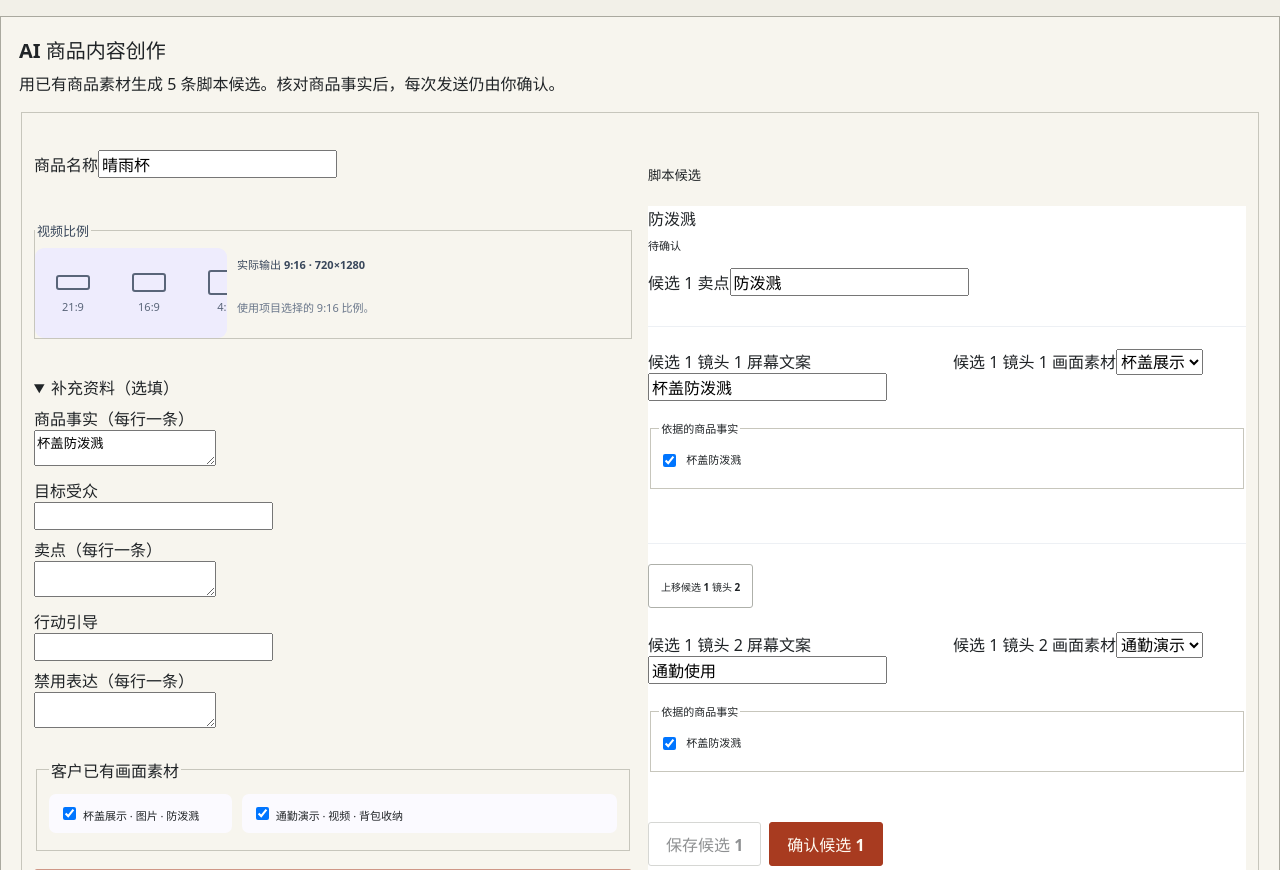
Test: 修改脚本候选后必须保存新版本再确认
Replace the text in the field labelled "候选 1 卖点" with "轻松通勤": (849, 282) [730, 268, 968, 296]
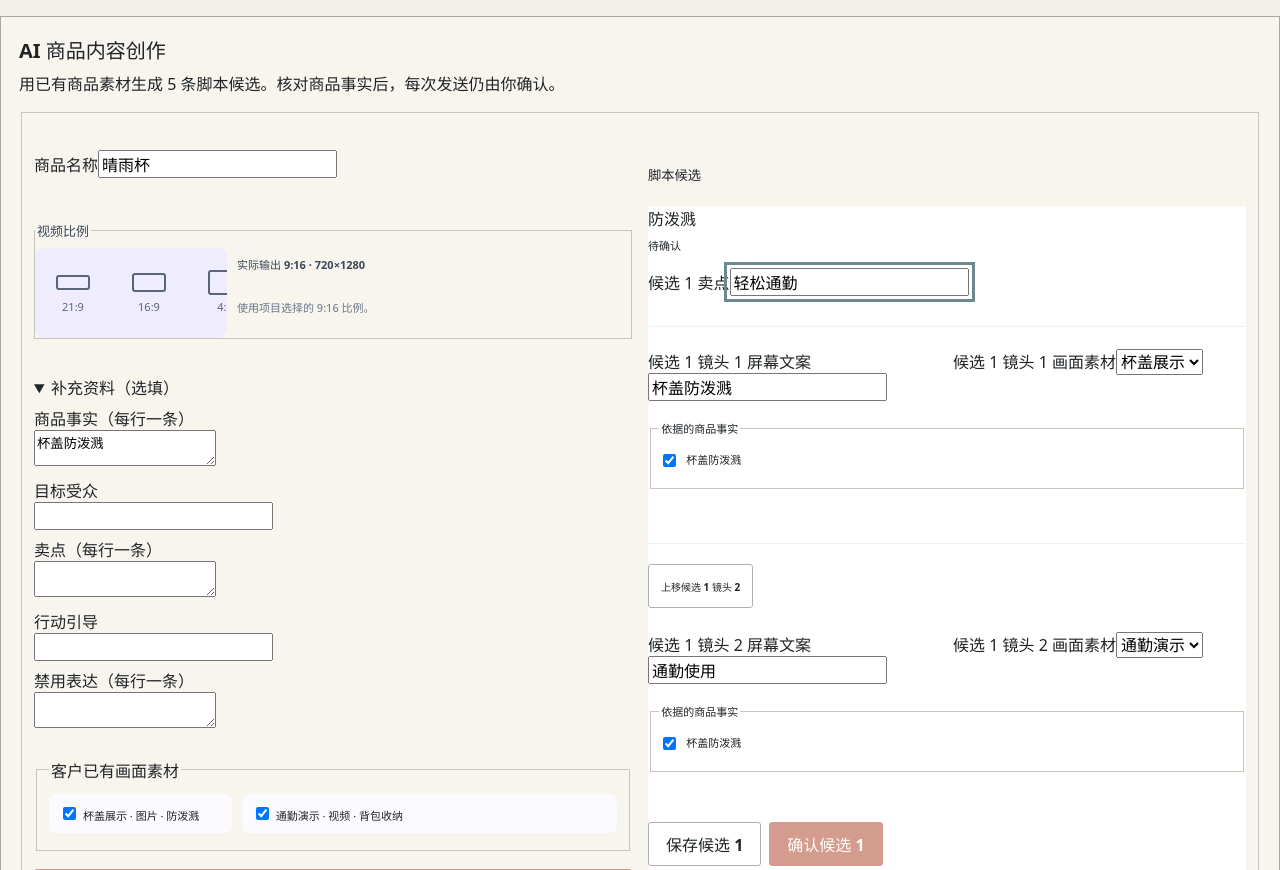
Click the button "上移候选 1 镜头 2": (701, 586) [648, 564, 753, 608]
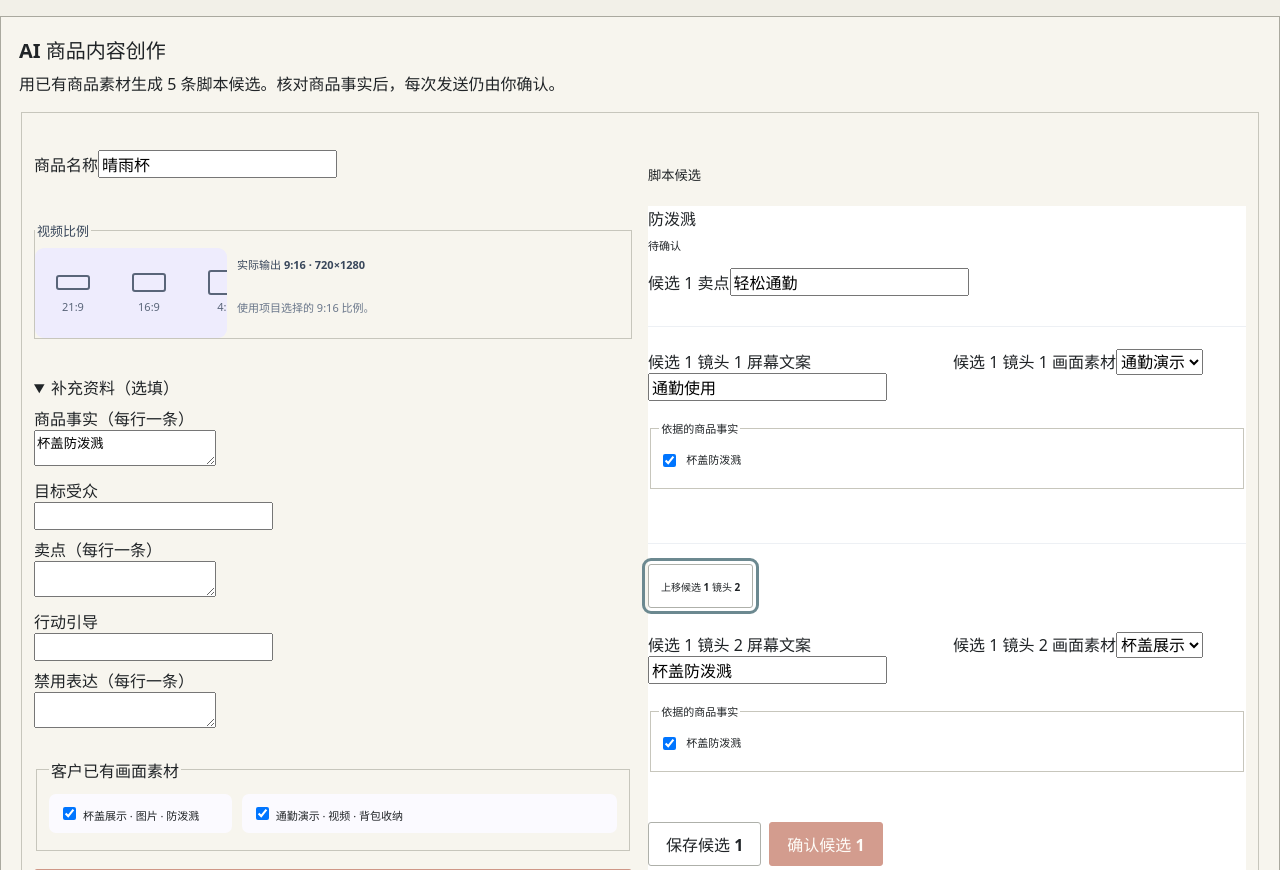
Expected: the button "确认候选 1" is disabled, [769, 822, 883, 866]
Click the button "保存候选 1": (705, 844) [648, 822, 761, 866]
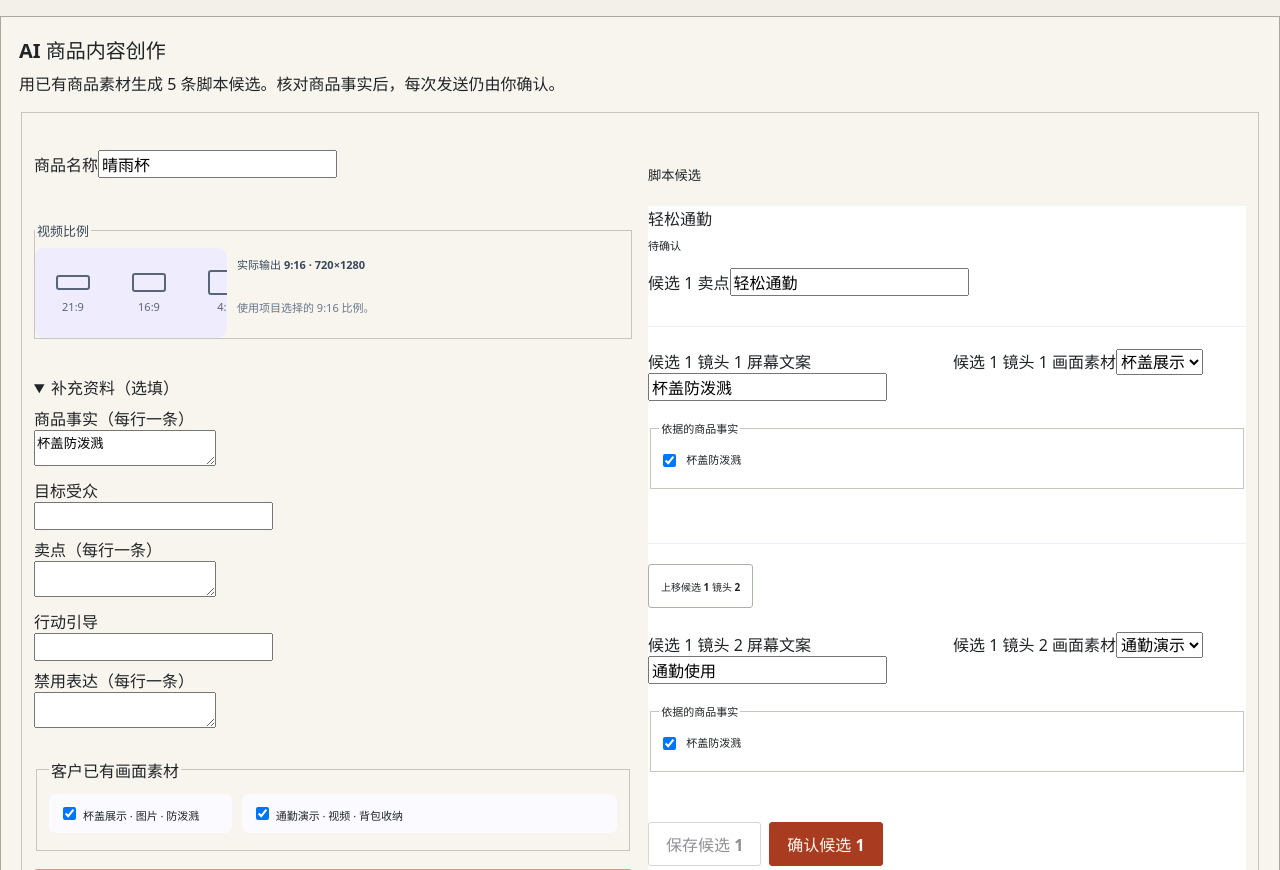
Click the button "确认候选 1": (826, 844) [769, 822, 883, 866]
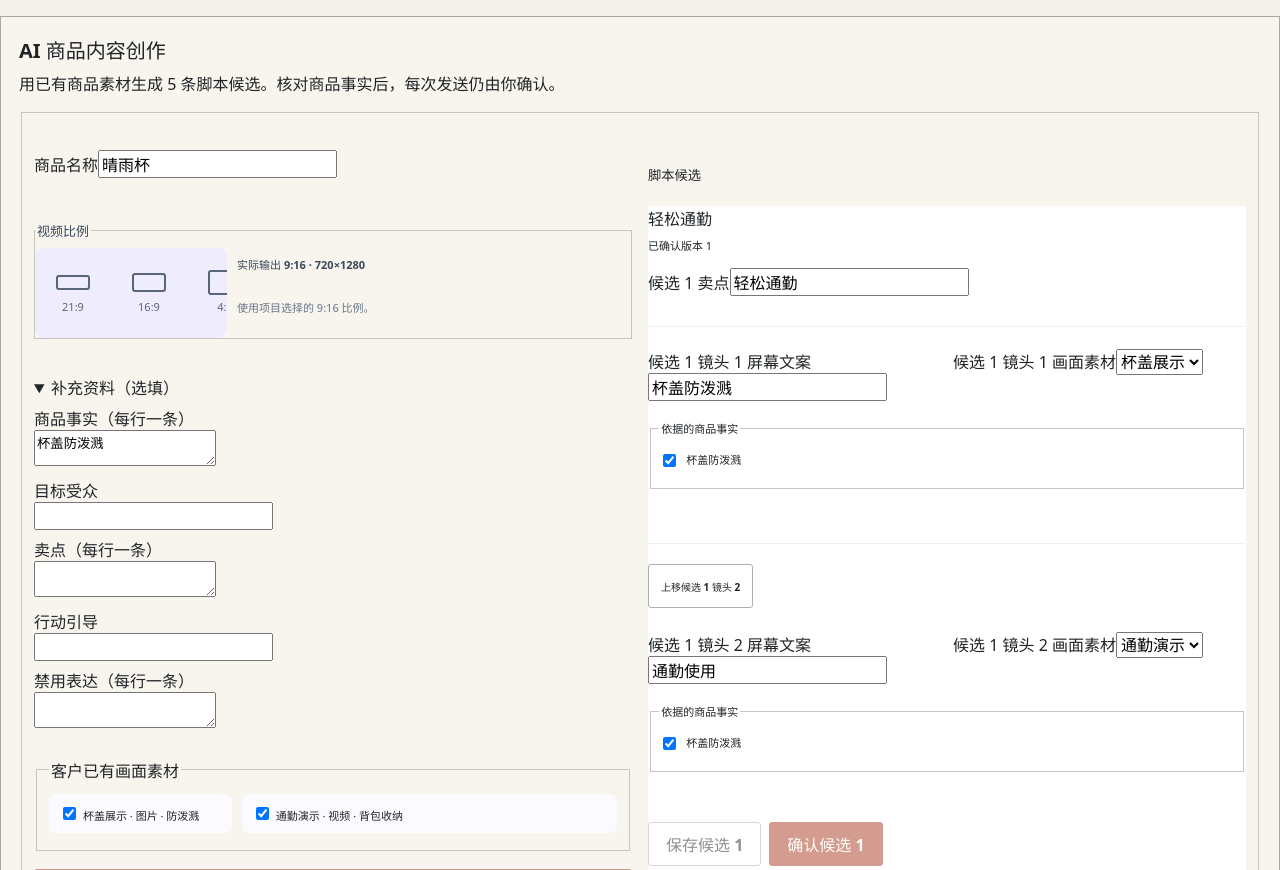
Expected: the heading "轻松通勤" is shown, [648, 208, 712, 230]
Expected: the text "已确认版本 1" is shown, [648, 238, 712, 253]
